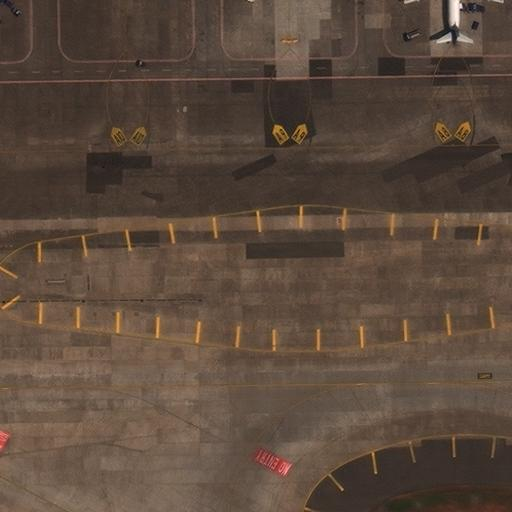Medium Civil Transport: (405, 0, 503, 40)
